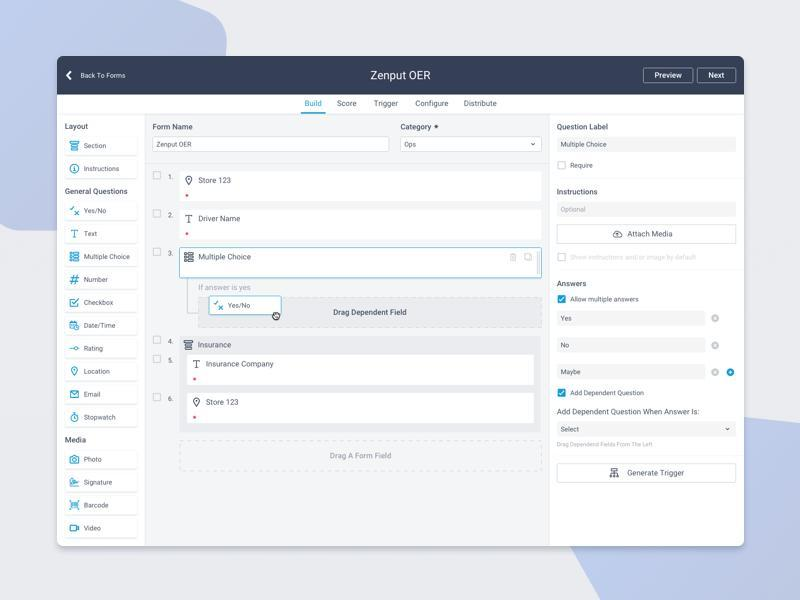button: (559, 464, 736, 484), (645, 68, 695, 85), (698, 68, 737, 84)
checkbox: (153, 171, 162, 181), (153, 209, 162, 218), (558, 161, 567, 170), (558, 296, 567, 304), (154, 249, 162, 257), (154, 394, 162, 402), (559, 254, 567, 262), (154, 357, 162, 364), (155, 337, 162, 344)
dropdown: (557, 421, 737, 438), (402, 137, 543, 153)
icon: (68, 250, 83, 264), (68, 320, 81, 335), (65, 70, 78, 84), (69, 140, 83, 153), (70, 273, 81, 289), (69, 207, 82, 220), (69, 164, 81, 178), (68, 477, 80, 490), (69, 522, 80, 536), (70, 299, 81, 312), (525, 252, 536, 265), (68, 345, 81, 356), (70, 412, 81, 425), (69, 501, 82, 512), (68, 229, 79, 241), (184, 176, 195, 188), (509, 253, 520, 265), (612, 230, 624, 241), (184, 341, 195, 352), (70, 455, 81, 466), (71, 366, 81, 378), (193, 397, 202, 410), (185, 253, 196, 263), (185, 215, 195, 224), (193, 361, 202, 370), (71, 391, 80, 400)
input: (153, 137, 390, 153), (558, 136, 738, 153), (555, 203, 738, 218), (559, 338, 707, 354), (558, 311, 706, 326), (559, 366, 706, 379)
label: (557, 408, 703, 418), (569, 254, 701, 262), (206, 360, 277, 371), (570, 295, 642, 305), (571, 390, 647, 399), (198, 252, 251, 263), (84, 253, 133, 263), (558, 123, 611, 132), (198, 340, 234, 352), (82, 477, 114, 489), (200, 215, 242, 224), (203, 399, 243, 408), (555, 281, 591, 291), (83, 165, 123, 174), (199, 177, 234, 187), (82, 299, 117, 309), (152, 124, 195, 132), (84, 414, 120, 423), (84, 322, 119, 331), (398, 125, 441, 132), (557, 189, 600, 196), (84, 141, 112, 151), (82, 368, 113, 377), (84, 276, 110, 286), (84, 455, 106, 466), (569, 161, 595, 170), (83, 208, 109, 217), (83, 503, 111, 511), (82, 526, 104, 536), (82, 344, 106, 353), (84, 392, 103, 400), (84, 230, 99, 238)
